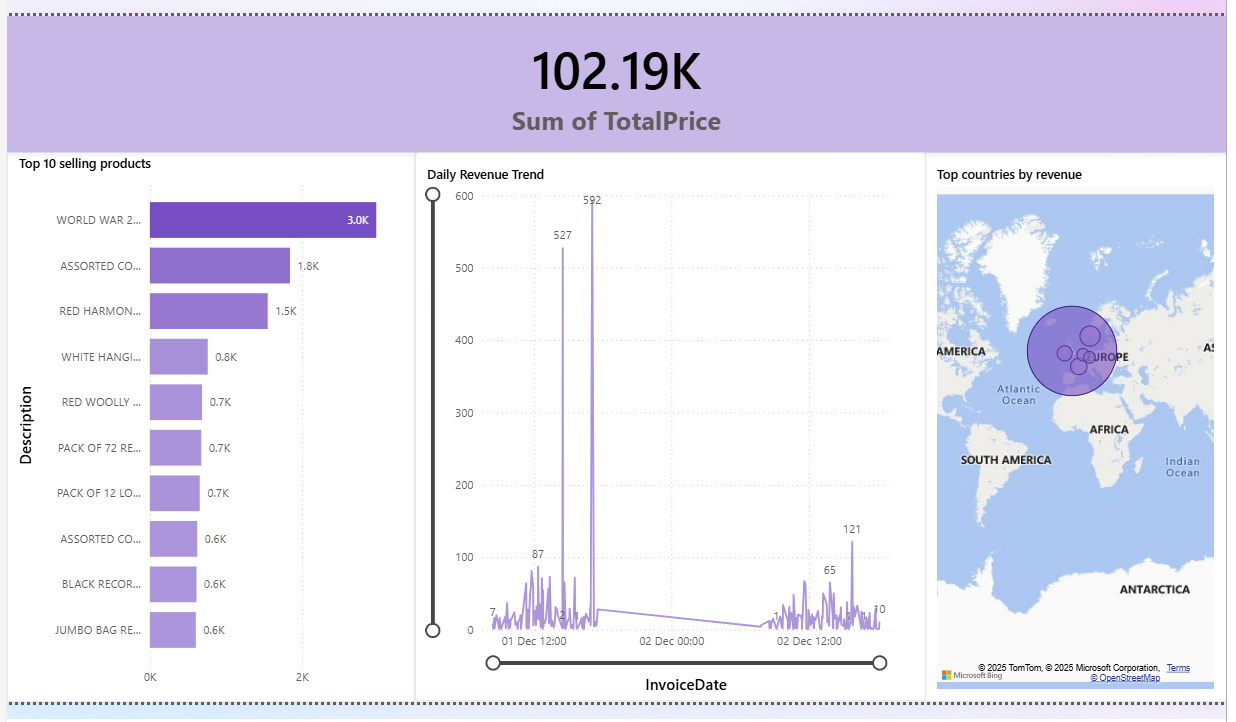

The page's visual inventory and layout, read from the dashboard file:
{"tool":"powerbi","page":{"name":"Page 1","canvas":[1280,720],"ordinal":0},"visuals":[{"type":"barChart","title":"Top 10 selling products","fields":{"Category":["Online_Retail_Clean.Description"],"Y":["Sum(Online_Retail_Clean.Quantity)"]},"box":[0,132,428,588],"z":0},{"type":"map","title":"Top countries by revenue","fields":{"Category":["Online_Retail_Clean.Country"],"Size":["Sum(Online_Retail_Clean.TotalPrice)"]},"box":[963.3,143.3,316.7,576.7],"z":1000},{"type":"card","title":"Total Revenue","fields":{"Values":["Sum(Online_Retail_Clean.TotalPrice)"]},"box":[0,0,1280,143.3],"z":2000},{"type":"lineChart","title":"Daily Revenue Trend","fields":{"Y":["CountNonNull(Online_Retail_Clean.InvoiceNo)"],"Category":["Online_Retail_Clean.InvoiceDate"]},"box":[428,144,536,576],"z":3000}]}

Visuals, with their boxes in screenshot pixels (x1, y1, x2, y2):
"Top 10 selling products" barChart: box(19, 135, 427, 695)
"Top countries by revenue" map: box(937, 146, 1235, 695)
"Total Revenue" card: box(19, 10, 1235, 146)
"Daily Revenue Trend" lineChart: box(427, 147, 937, 695)
